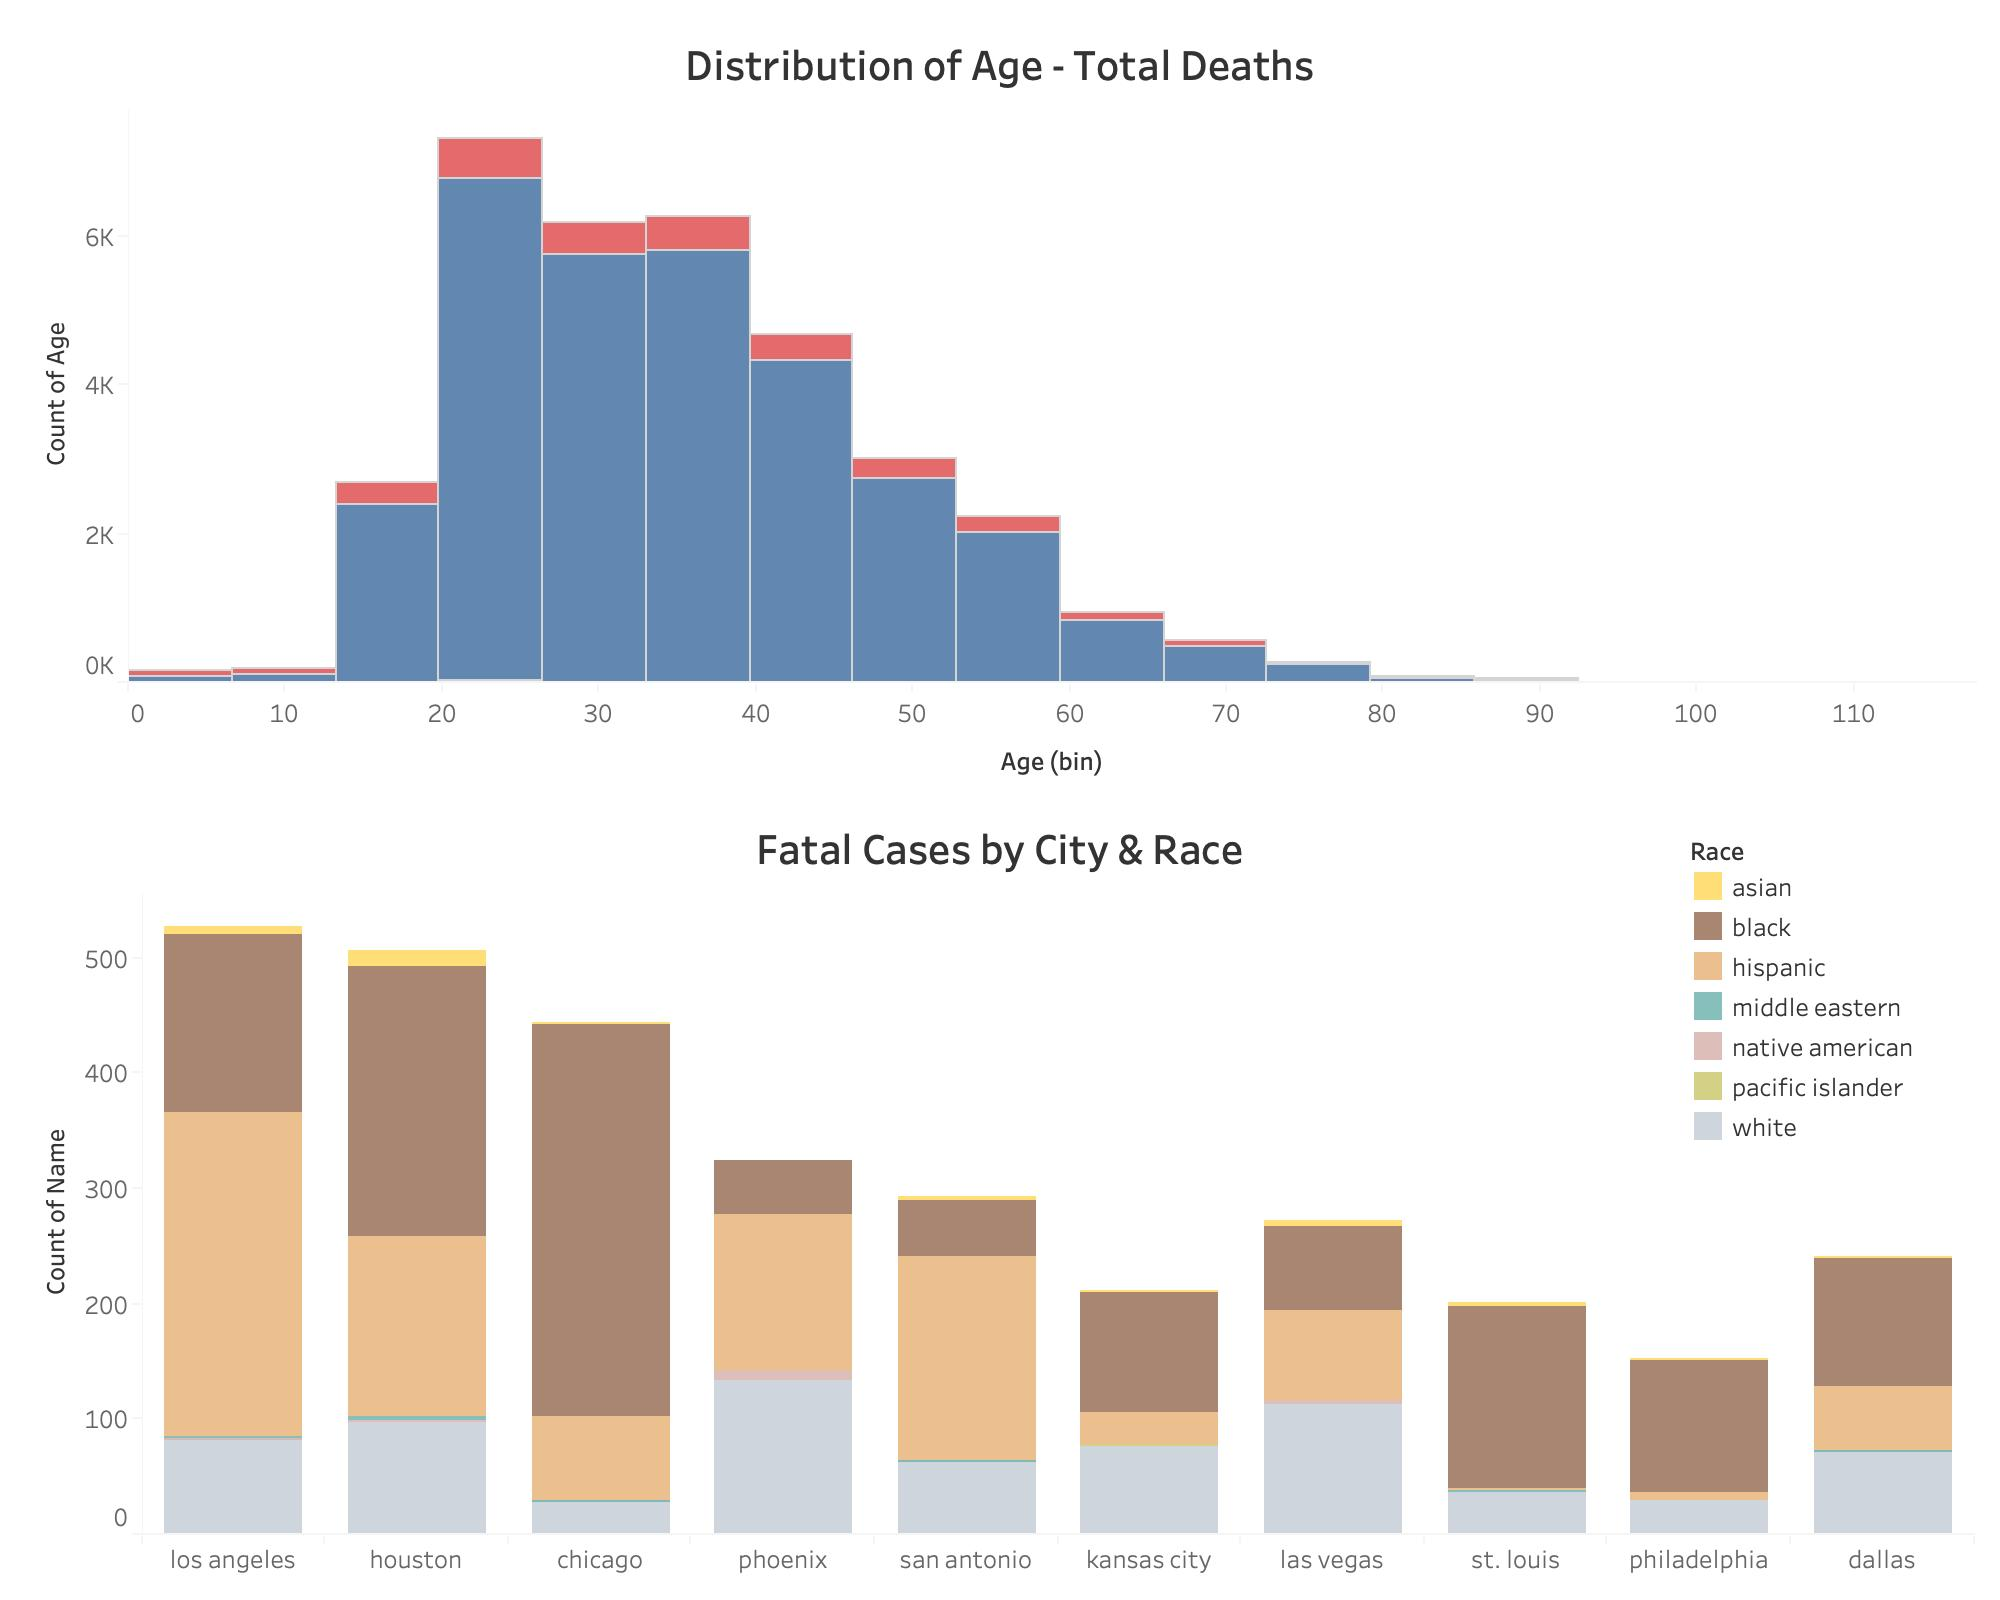

This screenshot's page, from the dashboard's own definition file:
{"tool":"tableau","page":{"name":"Dashboard 3","canvas":[1000,800],"ordinal":2},"visuals":[{"type":"worksheet","title":"Sheet 10","mark":"Automatic","rows":["age"],"cols":["Age (bin)"],"box":[8,8,984,392]},{"type":"worksheet","title":"Sheet 9","mark":"Automatic","rows":["name"],"cols":["city"],"box":[8,400,984,392]},{"type":"legend","title":"Sheet 9","param":"[federated.15tnjfx0qnbfkw13dks4l1e908w0].[none:race:nk]","box":[844,415,140,158]}]}

Visuals, with their boxes in screenshot pixels (x1, y1, x2, y2), scaled from the page's 1000x800 canvas onto the 2000x1600 screenshot:
"Sheet 10" worksheet: x1=16 y1=16 x2=1984 y2=800
"Sheet 9" worksheet: x1=16 y1=800 x2=1984 y2=1584
"Sheet 9" legend: x1=1688 y1=830 x2=1968 y2=1146
